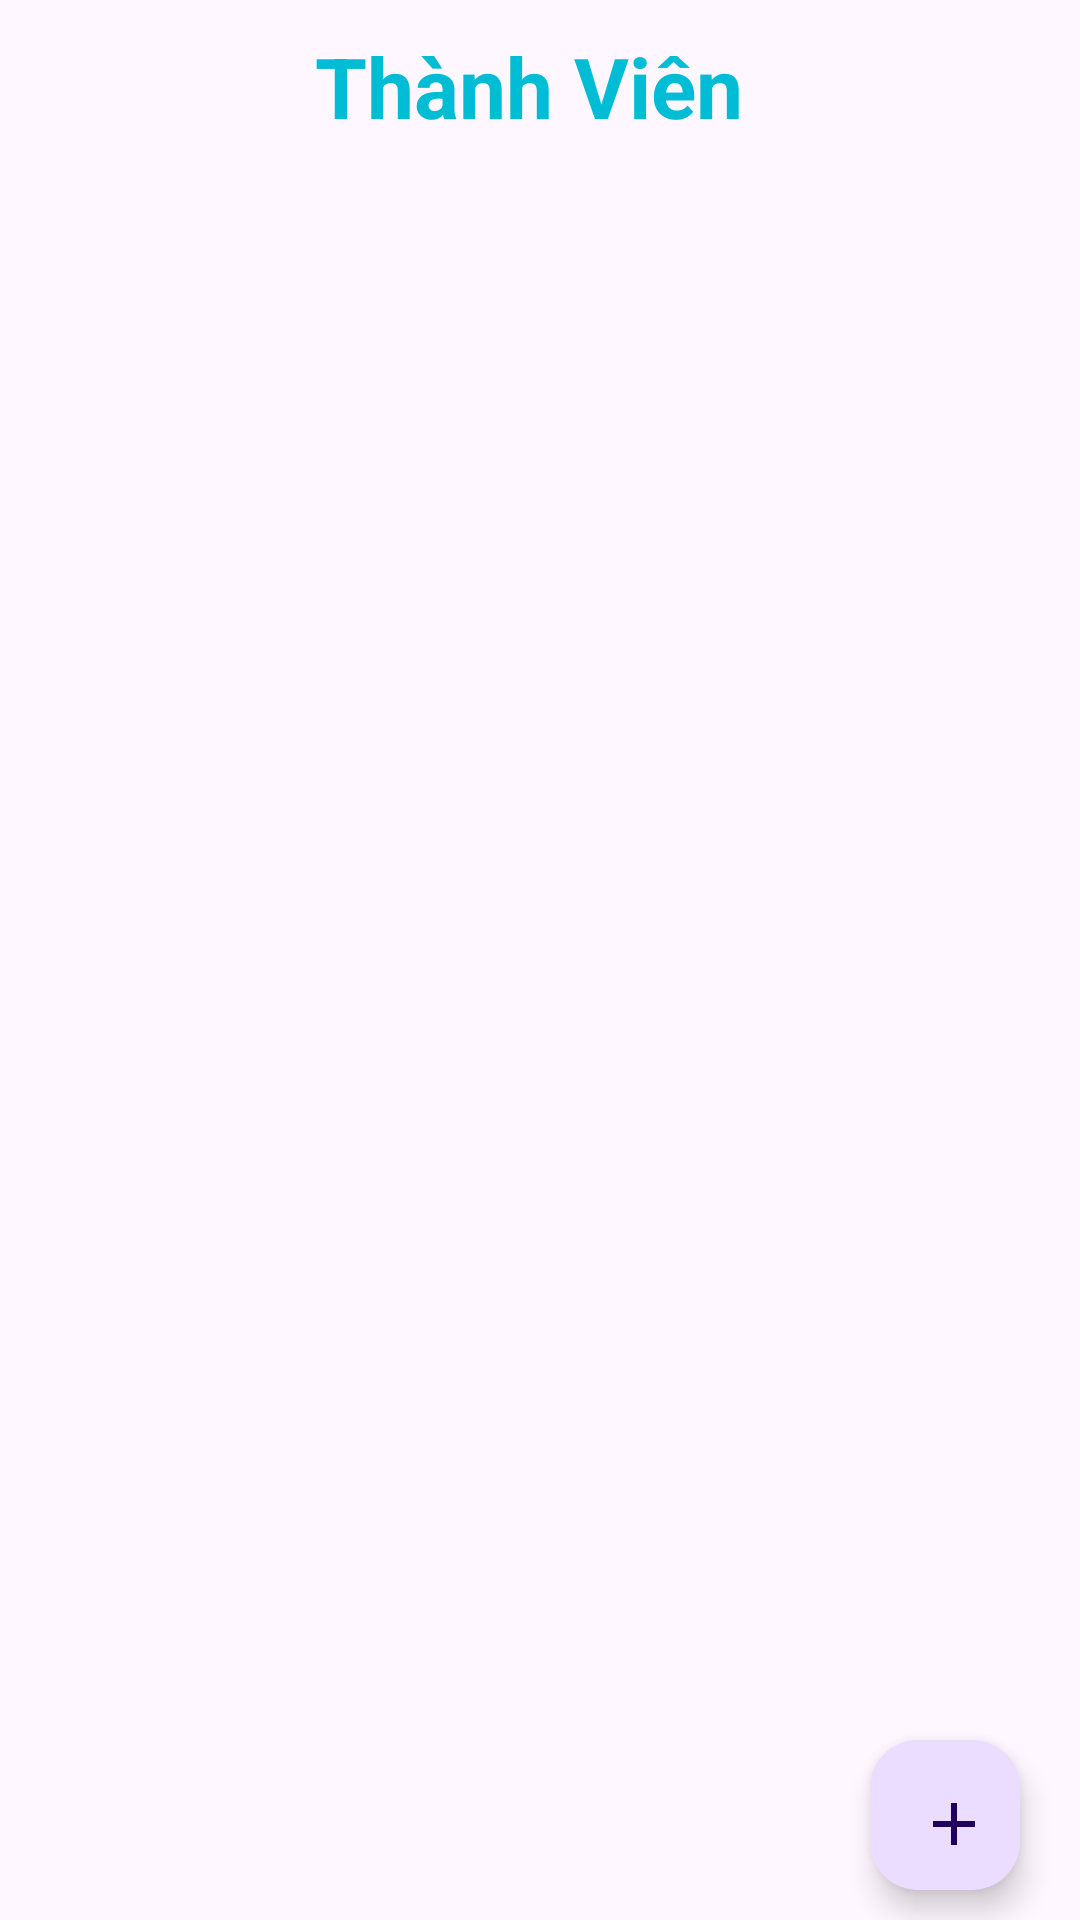

Screen size 1080x1920. Icon name, then its box in pixels as [x1,y1,x2,y2]:
add: [870,1740,1020,1890]
